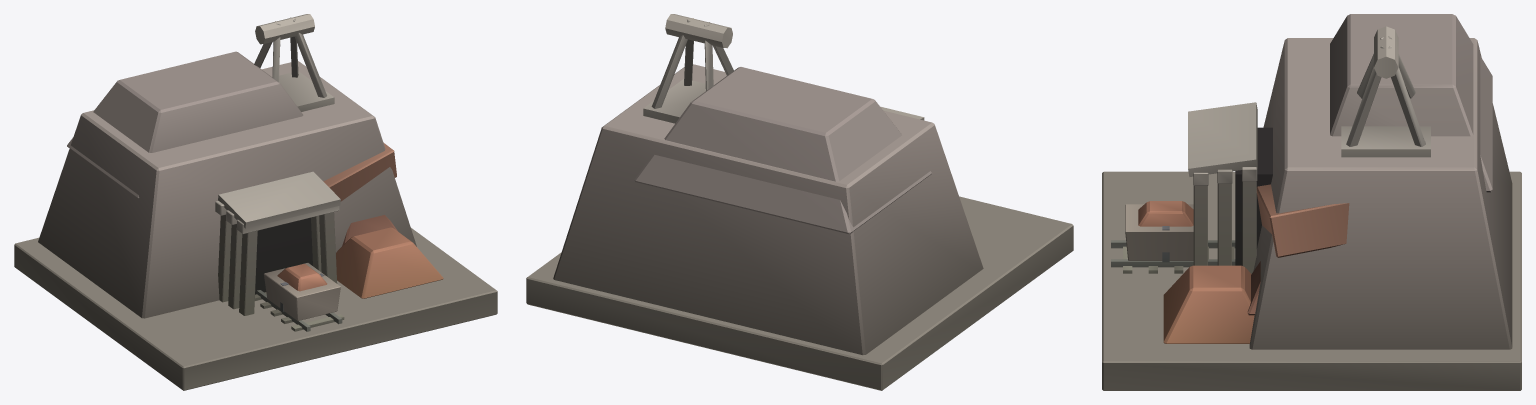
The model's file is iron_mine_l1_lod2.glb.
The picture shows the model from 3 angles, left to right: view 1: azimuth 30°, elevation 25°; view 2: azimuth 150°, elevation 25°; view 3: azimuth 270°, elevation 25°; orthographic projection. The views are drawn at different scales.
Parts seen in each view (by area): view 1: iron_mine_l1_lod2; view 2: iron_mine_l1_lod2; view 3: iron_mine_l1_lod2.
Boxes of the visible parts, x1,y1,x2,y2 form: iron_mine_l1_lod2: [14, 14, 497, 390]; iron_mine_l1_lod2: [526, 14, 1073, 390]; iron_mine_l1_lod2: [1102, 14, 1521, 390].
Bounding box in the file's own units: 8.8 × 6.26 × 8.2.
